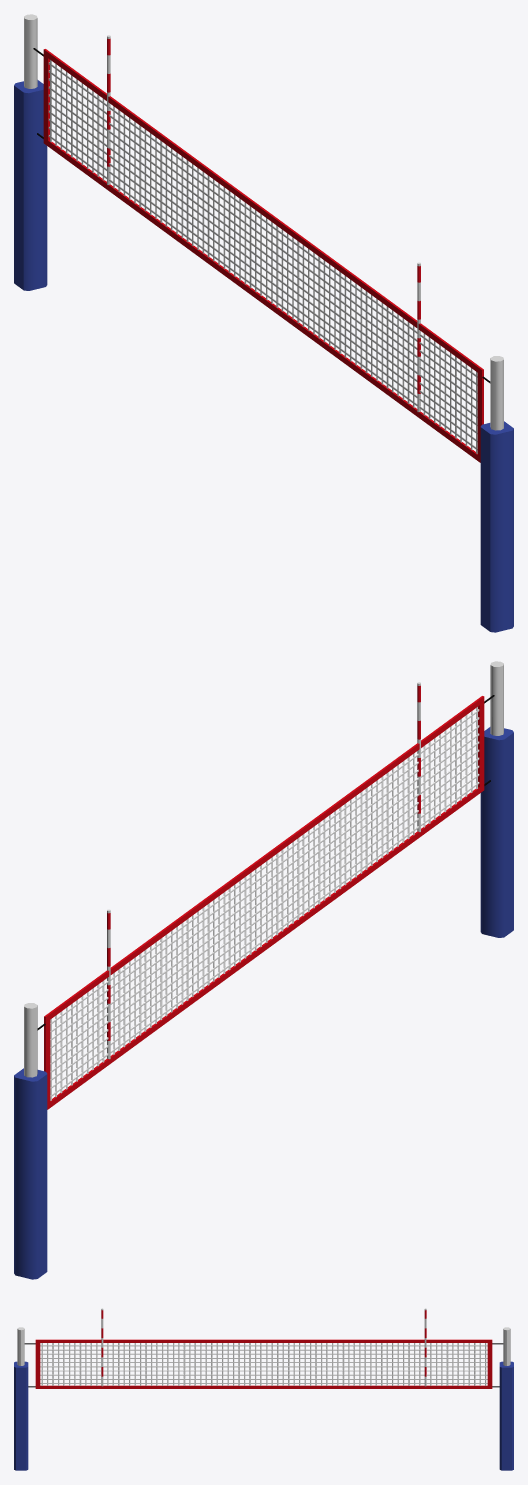
The model's file is volleyball net.fbx.
3 views of the same model, one above another, from view 1: azimuth 30°, elevation 25°; view 2: azimuth 150°, elevation 25°; view 3: azimuth 270°, elevation 25° (orthographic). The views are drawn at different scales.
Parts seen in each view (by area): view 1: Net, Antennae; view 2: Net, Antennae; view 3: Net, Antennae.
Boxes of the visible parts, x1,y1,x2,y2 form: Net: (14, 14, 513, 632); Antennae: (107, 35, 420, 412); Net: (14, 661, 513, 1279); Antennae: (107, 682, 420, 1059); Net: (14, 1327, 513, 1470); Antennae: (101, 1308, 426, 1386).
Bounding box in the file's own units: 60.96 × 752 × 2145.
